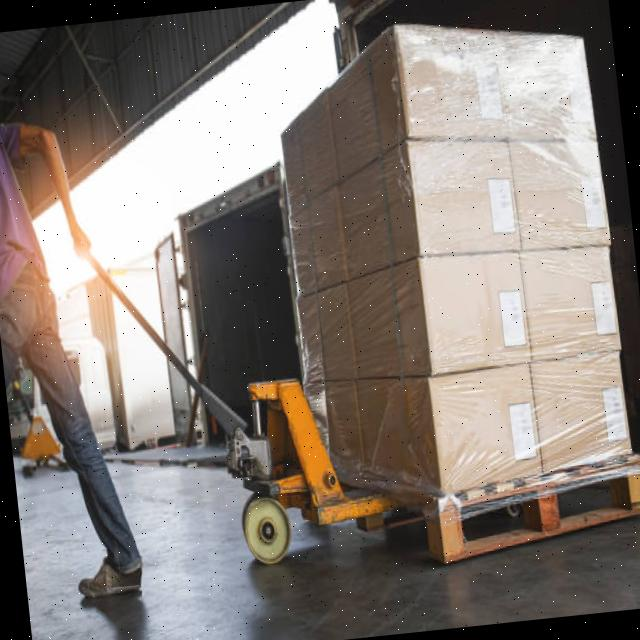Wooden-Pallets: (377, 458, 640, 568)
